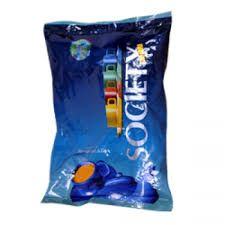society: (41, 20, 175, 212)
